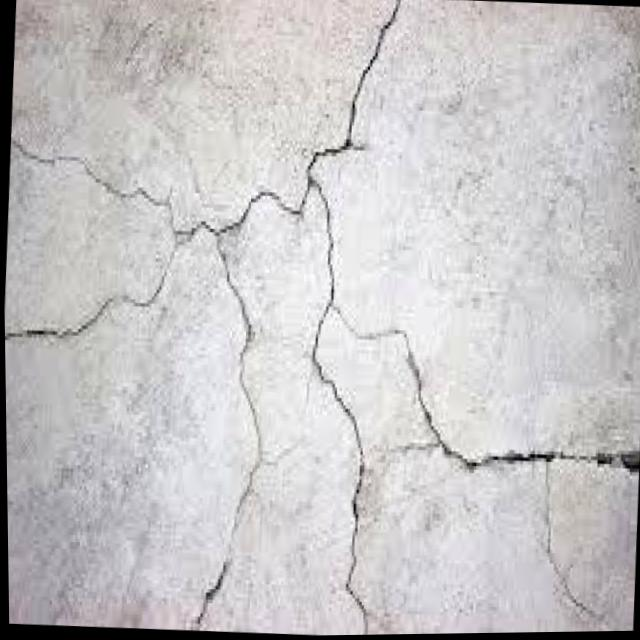Crack: (98, 161, 445, 396), (444, 436, 632, 490)
